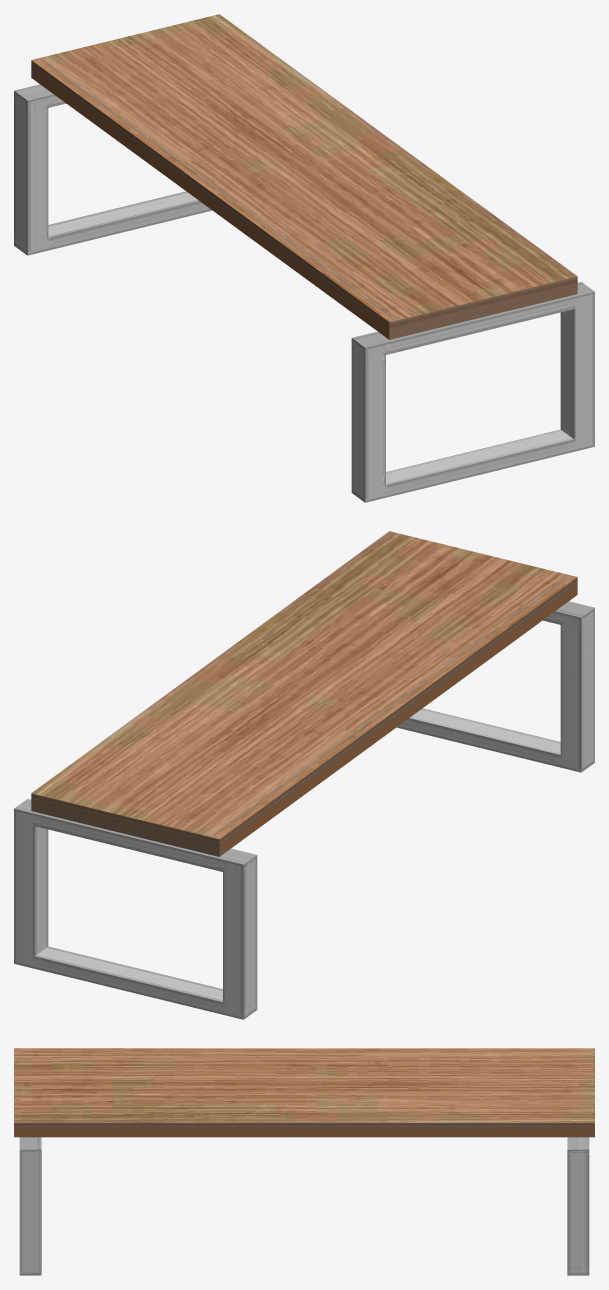
Rendered from bench.fbx.
3 views of the same model, one above another, from view 1: azimuth 30°, elevation 25°; view 2: azimuth 150°, elevation 25°; view 3: azimuth 270°, elevation 25° (orthographic). The views are drawn at different scales.
Visible parts, largest first — view 1: obj1; view 2: obj1; view 3: obj1.
Part boxes in pixels (<box>): obj1: <box>14,14,594,502</box>; obj1: <box>14,531,594,1019</box>; obj1: <box>14,1048,594,1275</box>.
Bounding box in the file's own units: 2.44 × 1.81 × 6.59.
1 material, 1 textured.
